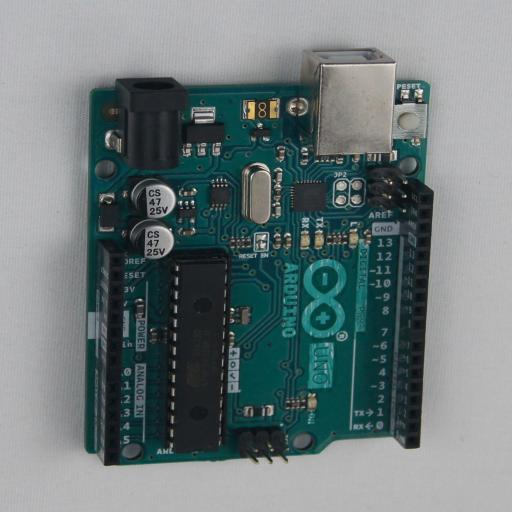Arduino Uno -Green-: (84, 48, 434, 466)
